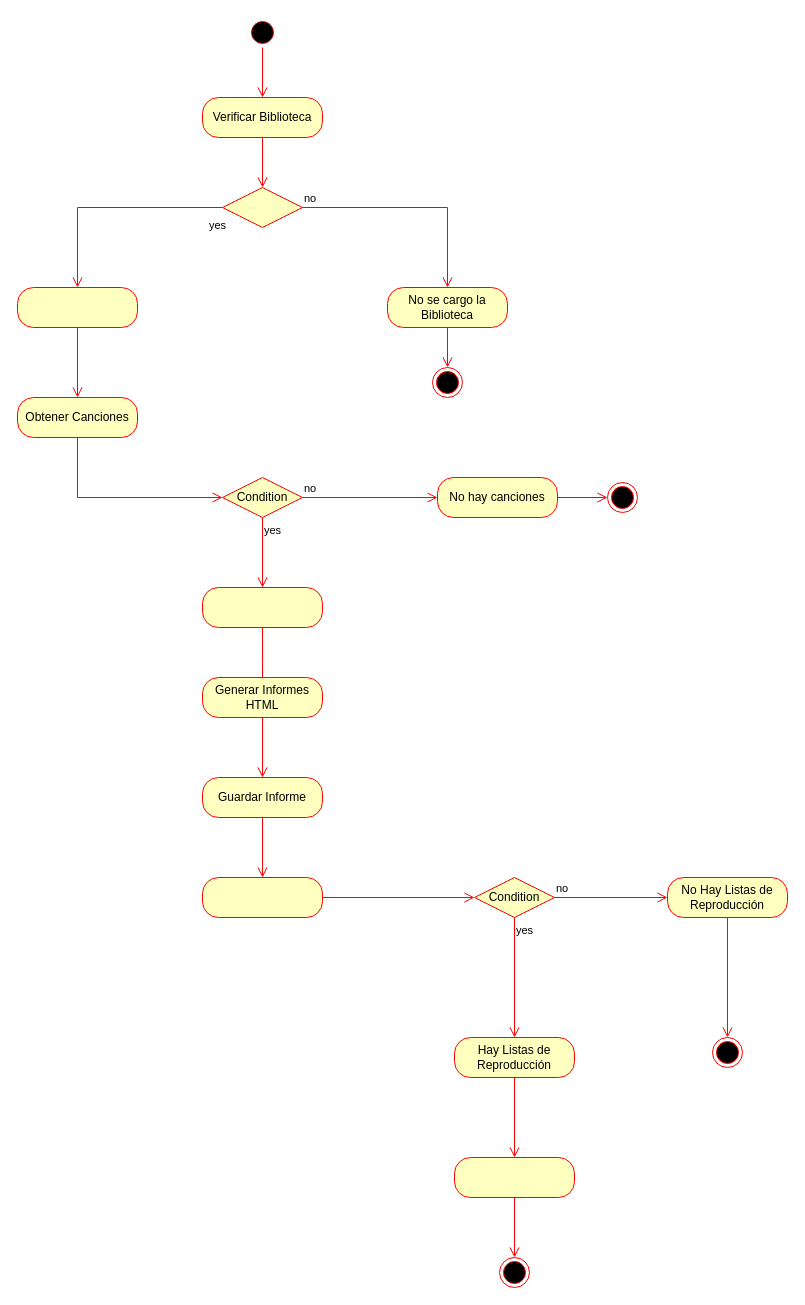
This 805x1305 diagram has some shape labels left out. The shapes that lost their labels are listed below. From the top down, each one's centre as x and y in pixels, then its label:
[262,207]: condicion
[77,307]: Biblioteca Cargada
[262,607]: Si hay al menos una canción
[262,897]: Mostrar Grafo Circular
[514,1177]: Mostrar Grafos Circular Generados
